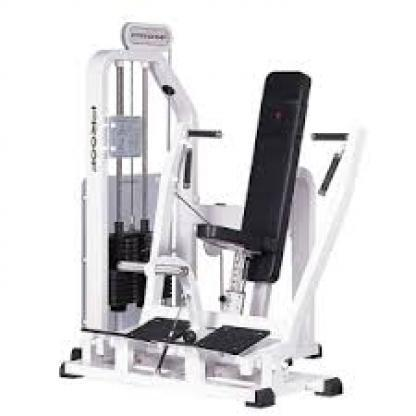Chest Press machine: (59, 18, 372, 410)
